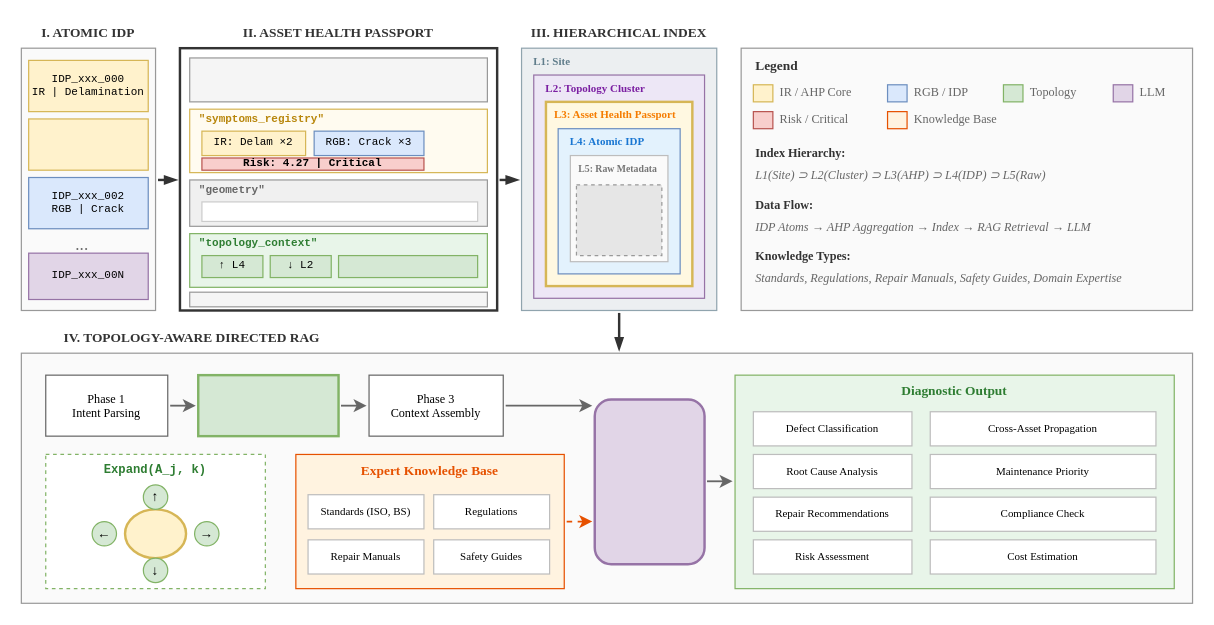
Some shapes in this 1214 by 625 pixel diagram are drawn without their labels. Grey dashed boxes stand in for pictures. The centre of each missing label's shape, as x and y in pixels:
A_j: point 155,533
Asset Health Passport ID: 0a4R30sjrEFes7mtu9Nbvn: point 337,79
IDP_xxx_001 IR | Delamination: point 87,144
L: 4.85m | H: 3.00m | Area: 14.55m²: point 339,211
Level 3 | Southeast: point 337,299
LLM Diagnostic Reasoning: point 649,481
Phase 2 Topology Expansion: point 267,405
← → neighbors: point 407,266
